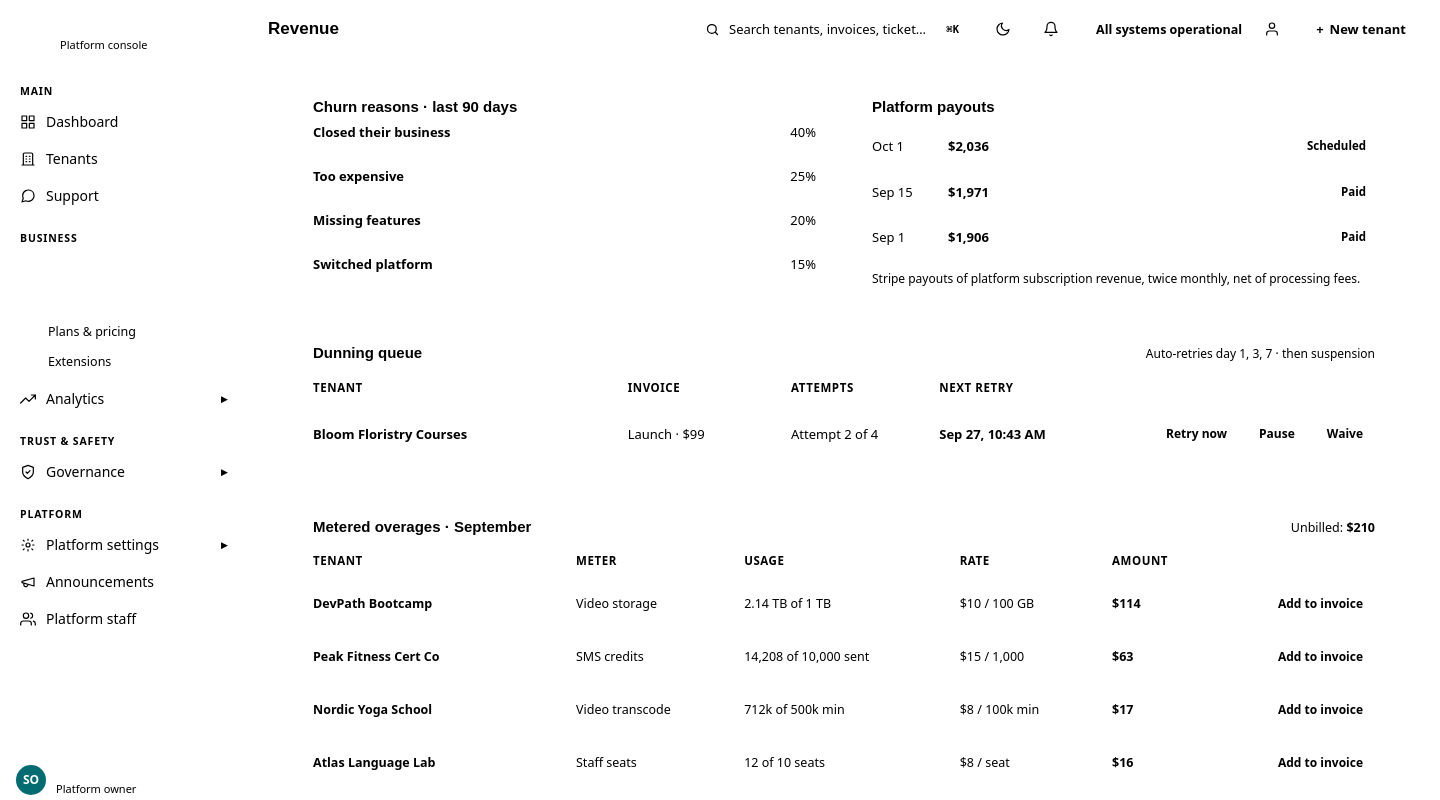
revenue › retries a failed charge: invoice paid, tenant active, audited
(page scrolled)
Click the button with aria-label "Retry now for Bloom Floristry Courses": [1197, 434] box [1154,418,1239,449]
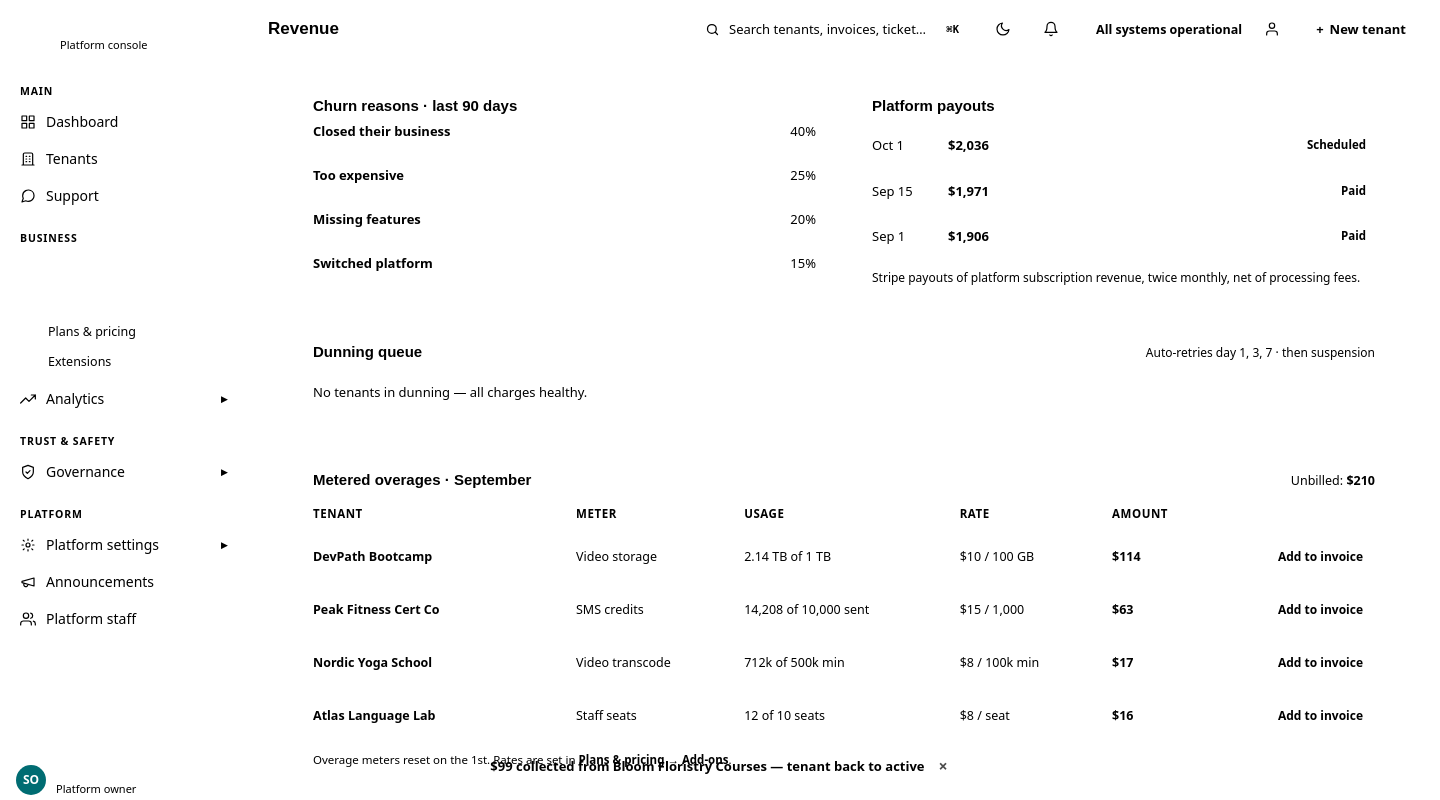
expect the text "$99 collected from Bloom Floristry Courses" is shown: met, box [490,757,924,775]
expect the text "No tenants in dunning — all charges healthy." is shown: met, box [313,383,587,401]
